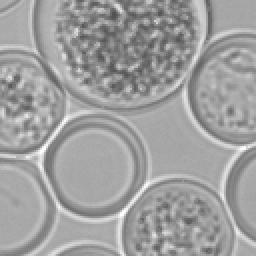picoshell: (30, 0, 206, 108), (40, 112, 150, 220), (116, 176, 234, 254), (182, 30, 254, 148), (0, 44, 64, 160), (0, 162, 56, 254), (220, 146, 254, 246), (52, 240, 118, 254)
